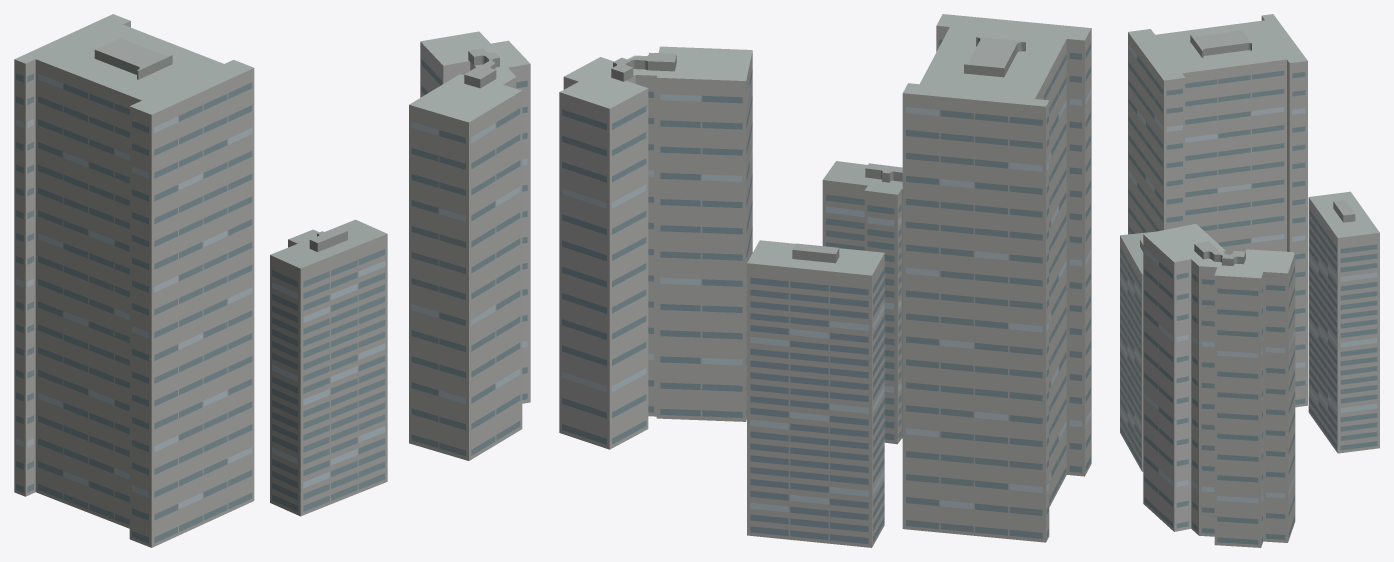
The model's file is apt-a10020786.glb.
The picture shows the model from 3 angles, left to right: view 1: azimuth 30°, elevation 25°; view 2: azimuth 150°, elevation 25°; view 3: azimuth 270°, elevation 25°; orthographic projection. The views are drawn at different scales.
Parts seen in each view (by area): view 1: apt-a10020786; view 2: apt-a10020786; view 3: apt-a10020786.
Part boxes in pixels (x1,y1,x2,y2): apt-a10020786: (14,14,530,547); apt-a10020786: (559,14,1091,547); apt-a10020786: (1120,14,1379,547).
Bounding box in the file's own units: 135 × 117 × 78.3.
